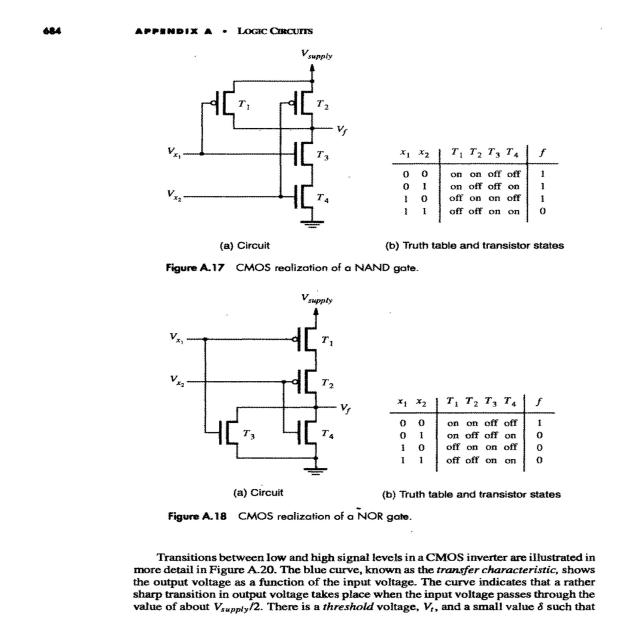diagram: (54, 45, 640, 523)
